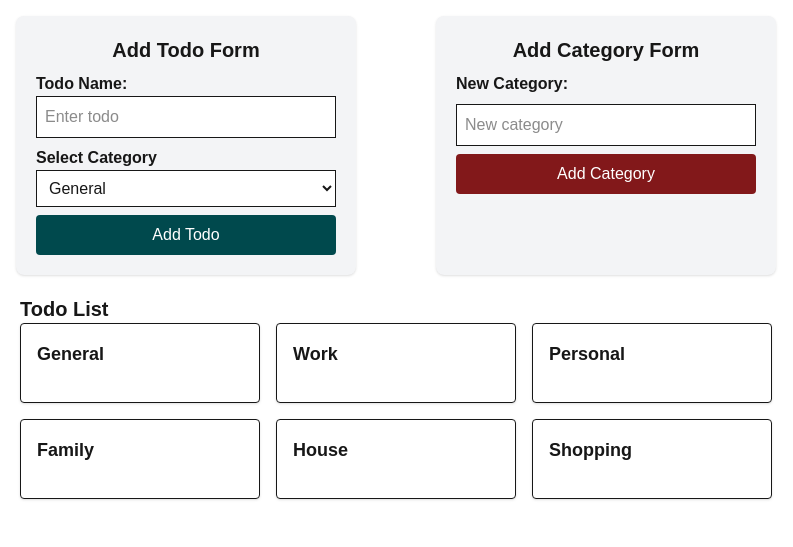
Todo Component › should add new todo and display on TodoList
Type "Test Todo" into the field labelled "Todo Name:" at x=186, y=117, box [36,96,336,138]
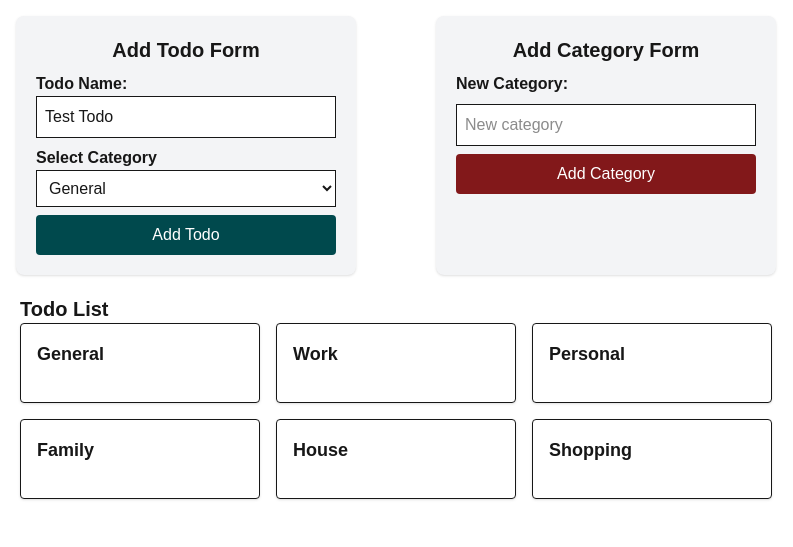
Select "Work" in the dropdown at x=186, y=188, box [36,170,336,207]
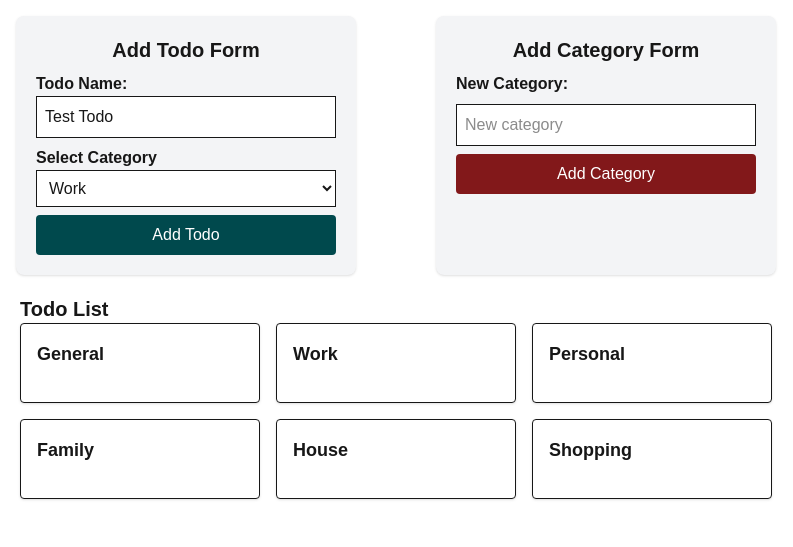
Click the button "Add Todo" at x=186, y=235, box [36,215,336,255]
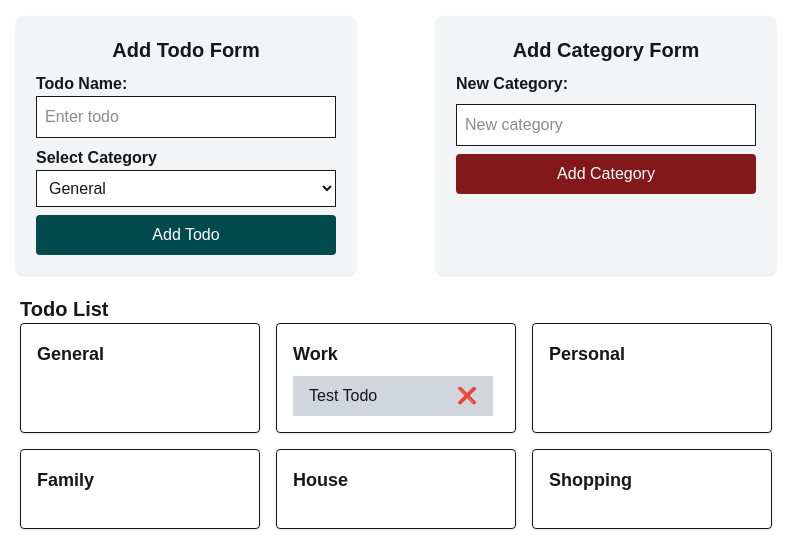
Expected: the heading "Work" is shown, [293,344,338,364]
Expected: the text "Test Todo" is shown, [309,384,377,408]
